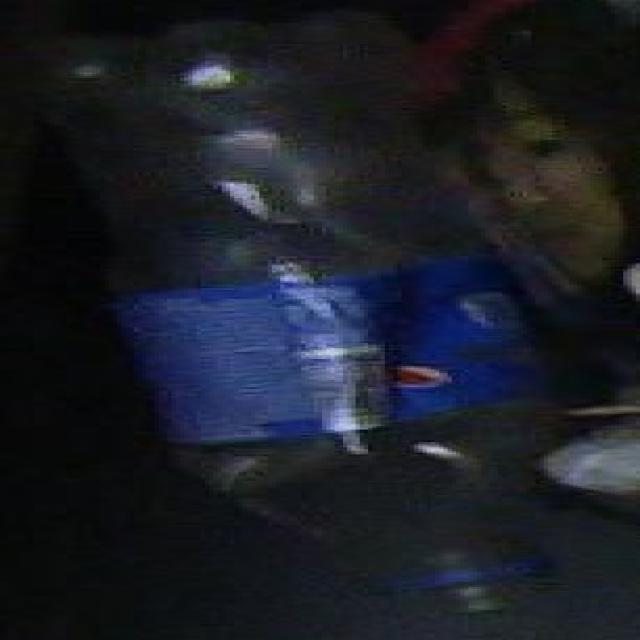litter: (91, 16, 607, 628)
